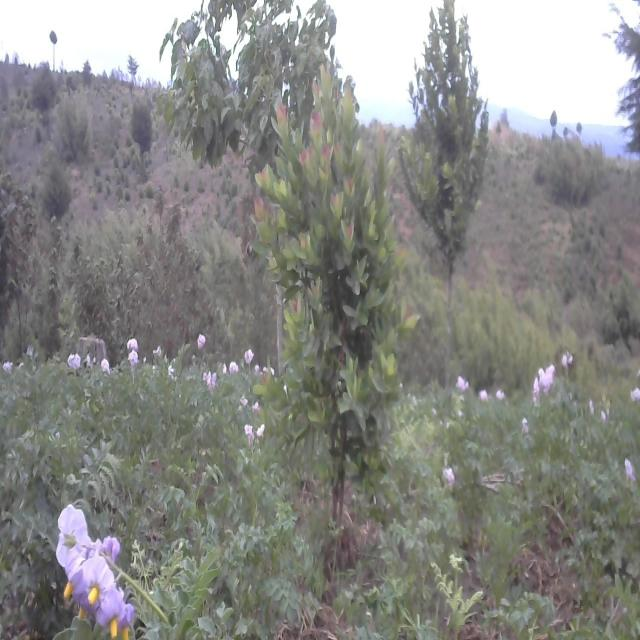Lemon Myrtle: (403, 9, 495, 292)
cedrus: (604, 0, 640, 150), (43, 156, 77, 230), (126, 100, 158, 166), (123, 51, 142, 82)
other: (248, 64, 396, 540), (157, 0, 359, 165)
